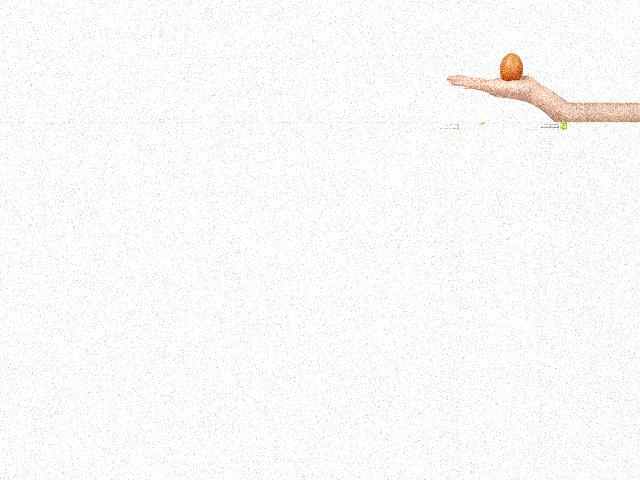egg: (499, 53, 522, 81)
